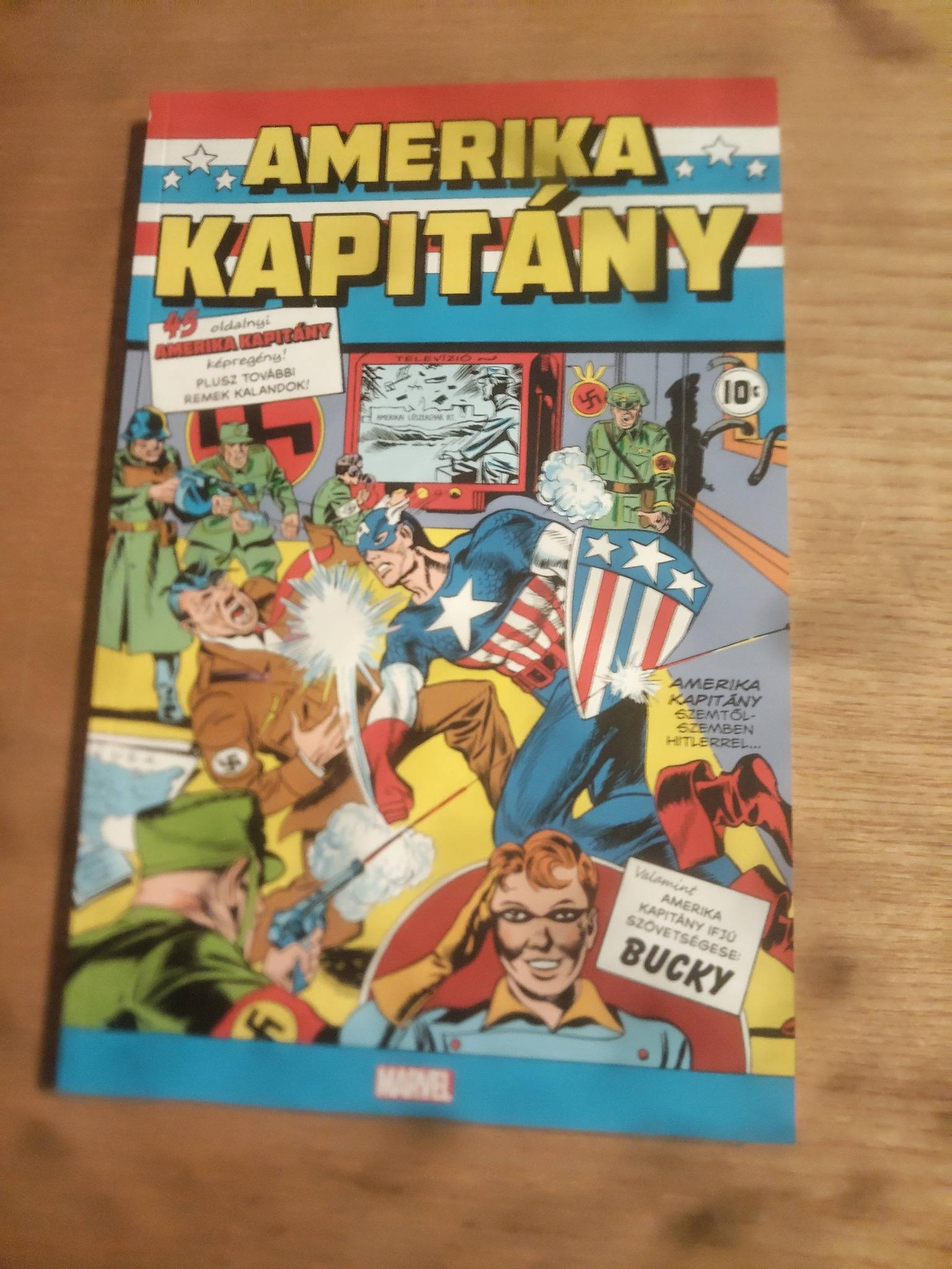comic: (58, 79, 793, 1141)
